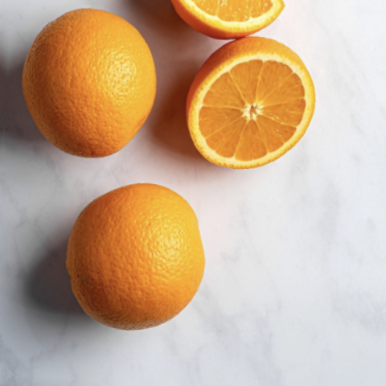orange: (58, 164, 214, 342), (19, 0, 166, 173)
